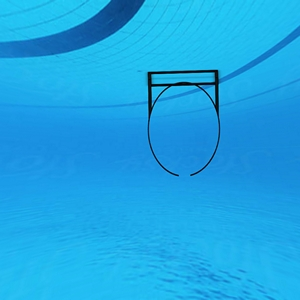circle: (144, 68, 226, 181)
